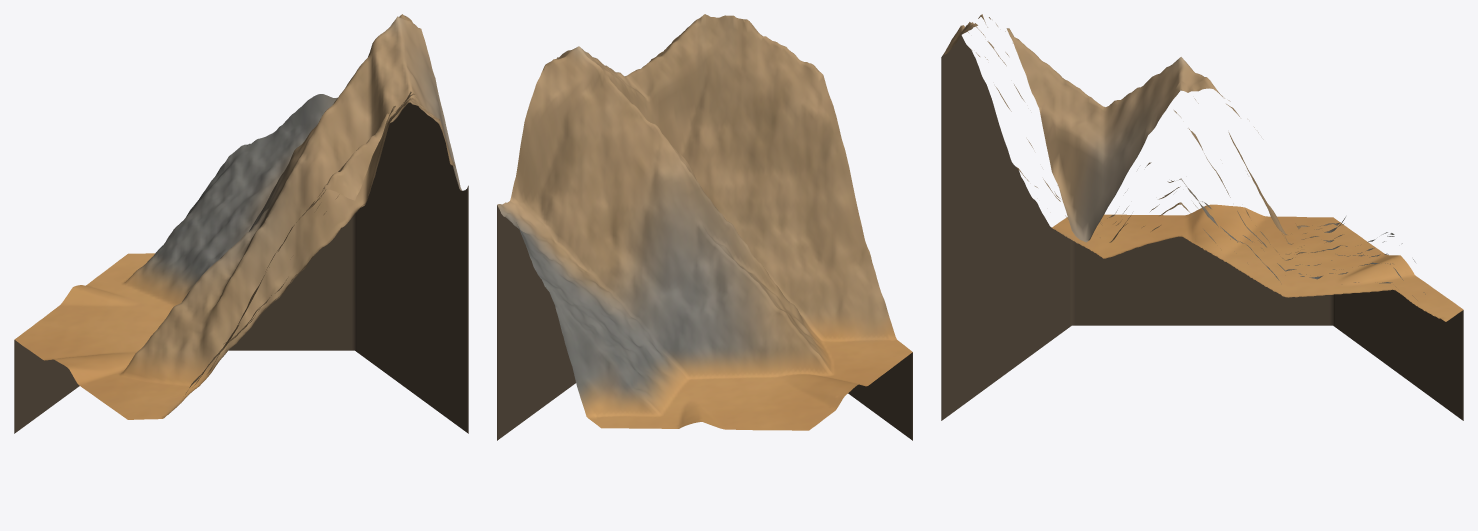
3 views of the same model, side by side, from view 1: azimuth 30°, elevation 25°; view 2: azimuth 150°, elevation 25°; view 3: azimuth 270°, elevation 25° (orthographic). The views are drawn at different scales.
Visible parts, largest first — view 1: terrain, hex_side_cut; view 2: terrain, hex_side_cut; view 3: hex_side_cut, terrain.
Boxes of the visible parts, <box> form: terrain: <box>14,14,461,419</box>; hex_side_cut: <box>14,102,468,433</box>; terrain: <box>497,14,912,430</box>; hex_side_cut: <box>497,205,912,440</box>; hex_side_cut: <box>941,35,1463,420</box>; terrain: <box>942,14,1463,321</box>.
Bounding box in the file's own units: 4330 × 4720 × 5000.
